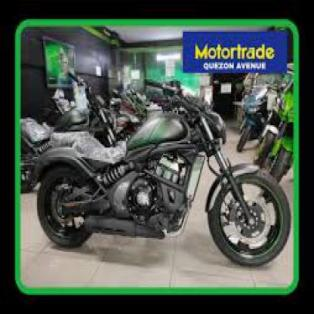Motocicleta: (31, 78, 292, 263)
